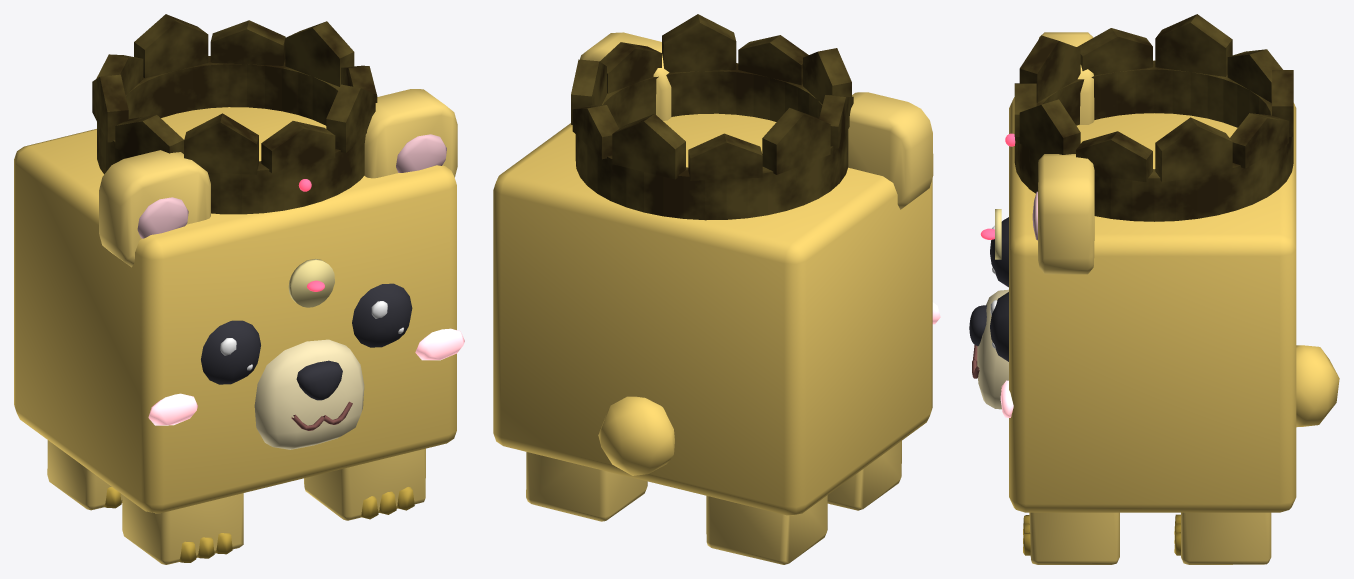
The model's file is Pet_Grizzly.fbx.
3 renders of one model, left to right at view 1: azimuth 30°, elevation 25°; view 2: azimuth 150°, elevation 25°; view 3: azimuth 270°, elevation 25°, orthographic. The views are drawn at different scales.
Parts seen in each view (by area): view 1: Pet_Grizzly_body, Pet_Grizzly_acc_crown, Pet_Grizzly_ears, Pet_Grizzly_feet, Pet_Grizzly_muzzle, Pet_Grizzly_eyes, Pet_Grizzly, Pet_Grizzly_toes, Pet_Grizzly_acc_medal, Pet_Grizzly_cute_innerear_-1, Pet_Grizzly_nose, Pet_Grizzly_cute_blush_-1; view 2: Pet_Grizzly_body, Pet_Grizzly_acc_crown, Pet_Grizzly_feet, Pet_Grizzly_ears, Pet_Grizzly_cute_tail; view 3: Pet_Grizzly_body, Pet_Grizzly_acc_crown, Pet_Grizzly_feet, Pet_Grizzly_ears, Pet_Grizzly_cute_tail, Pet_Grizzly_muzzle, Pet_Grizzly_eyes, Pet_Grizzly, Pet_Grizzly_toes, Pet_Grizzly_nose.
Part boxes in pixels (x1,y1,x2,y2): Pet_Grizzly_body: (14, 107, 456, 513); Pet_Grizzly_acc_crown: (92, 14, 377, 214); Pet_Grizzly_ears: (99, 89, 457, 267); Pet_Grizzly_feet: (47, 440, 425, 564); Pet_Grizzly_muzzle: (254, 339, 364, 449); Pet_Grizzly_eyes: (201, 283, 412, 384); Pet_Grizzly: (371, 134, 464, 360); Pet_Grizzly_toes: (103, 487, 414, 562); Pet_Grizzly_acc_medal: (288, 259, 334, 307); Pet_Grizzly_cute_innerear_-1: (137, 197, 188, 238); Pet_Grizzly_nose: (296, 360, 342, 400); Pet_Grizzly_cute_blush_-1: (148, 393, 197, 425); Pet_Grizzly_body: (493, 113, 932, 515); Pet_Grizzly_acc_crown: (571, 14, 853, 220); Pet_Grizzly_feet: (526, 441, 901, 564); Pet_Grizzly_ears: (580, 32, 933, 209); Pet_Grizzly_cute_tail: (598, 396, 674, 475); Pet_Grizzly_body: (1009, 97, 1296, 512); Pet_Grizzly_acc_crown: (1014, 14, 1293, 221); Pet_Grizzly_feet: (1029, 512, 1271, 564); Pet_Grizzly_ears: (1038, 32, 1094, 274); Pet_Grizzly_cute_tail: (1296, 345, 1339, 427); Pet_Grizzly_muzzle: (977, 289, 1008, 409); Pet_Grizzly_eyes: (990, 217, 1008, 361); Pet_Grizzly: (990, 191, 1037, 417); Pet_Grizzly_toes: (1023, 514, 1180, 555); Pet_Grizzly_nose: (969, 305, 986, 346).
Bounding box in the file's own units: 2.35 × 2.85 × 2.21.
14 materials, 1 textured.
